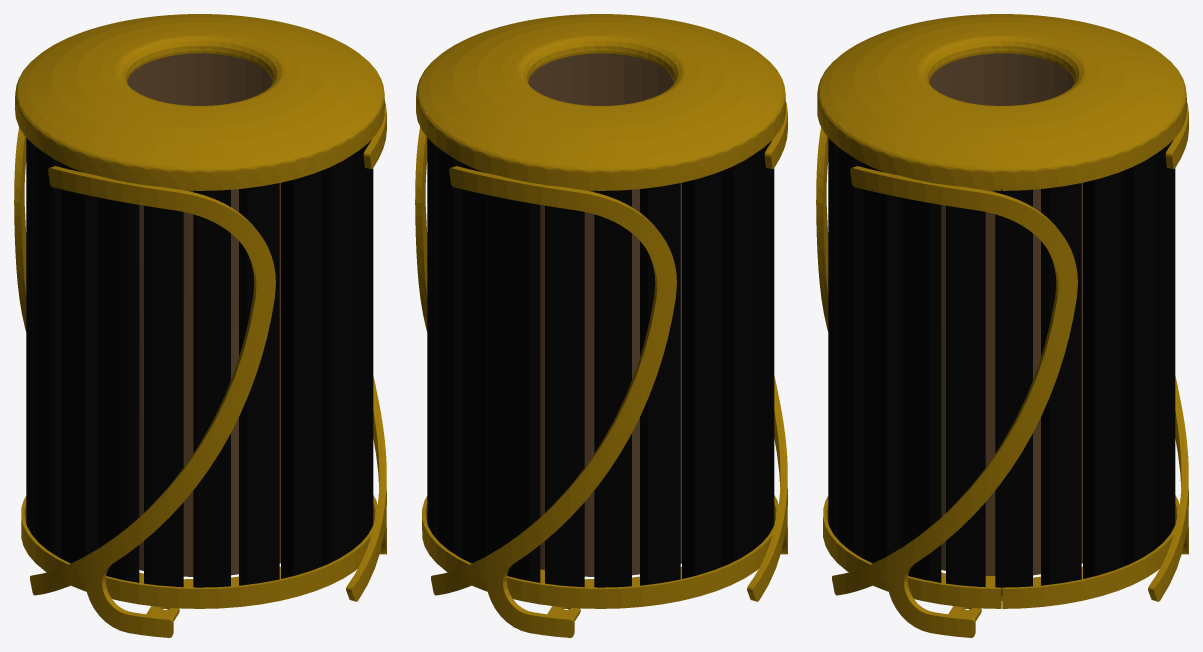
The picture shows the model from 3 angles, left to right: view 1: azimuth 30°, elevation 25°; view 2: azimuth 150°, elevation 25°; view 3: azimuth 270°, elevation 25°; orthographic projection.
Visible parts, largest first — view 1: mesh4.002_mesh4-geometry, mesh82.005_mesh82-geometry, mesh1.022_mesh1-geometry, mesh1.027_mesh1-geometry, mesh99.002_mesh99-geometry, mesh1.026_mesh1-geometry, mesh1.028_mesh1-geometry, mesh1.023_mesh1-geometry, mesh1.030_mesh1-geometry, mesh1.029_mesh1-geometry, mesh1.042_mesh1-geometry, mesh1.024_mesh1-geometry (+5 smaller); view 2: mesh4.002_mesh4-geometry, mesh82.004_mesh82-geometry, mesh1.041_mesh1-geometry, mesh1.037_mesh1-geometry, mesh99.002_mesh99-geometry, mesh1.036_mesh1-geometry, mesh1.038_mesh1-geometry, mesh1.042_mesh1-geometry, mesh1.040_mesh1-geometry, mesh1.039_mesh1-geometry, mesh1.035_mesh1-geometry, mesh1.026_mesh1-geometry (+5 smaller); view 3: mesh4.002_mesh4-geometry, mesh82.006_mesh82-geometry, mesh1.034_mesh1-geometry, mesh1.025_mesh1-geometry, mesh99.002_mesh99-geometry, mesh1.024_mesh1-geometry, mesh1.031_mesh1-geometry, mesh1.035_mesh1-geometry, mesh1.032_mesh1-geometry, mesh1.033_mesh1-geometry, mesh1.023_mesh1-geometry, mesh1.036_mesh1-geometry (+5 smaller).
Part boxes in pixels (x1,y1,x2,y2): mesh4.002_mesh4-geometry: (15, 14, 384, 188); mesh82.005_mesh82-geometry: (30, 166, 275, 637); mesh1.022_mesh1-geometry: (281, 171, 321, 578); mesh1.027_mesh1-geometry: (98, 197, 139, 582); mesh99.002_mesh99-geometry: (127, 53, 280, 576); mesh1.026_mesh1-geometry: (61, 163, 98, 563); mesh1.028_mesh1-geometry: (144, 205, 183, 587); mesh1.023_mesh1-geometry: (321, 155, 352, 566); mesh1.030_mesh1-geometry: (239, 183, 279, 585); mesh1.029_mesh1-geometry: (193, 189, 230, 587); mesh1.042_mesh1-geometry: (36, 147, 61, 558); mesh1.024_mesh1-geometry: (352, 141, 370, 549); mesh4.002_mesh4-geometry: (416, 14, 785, 188); mesh82.004_mesh82-geometry: (431, 166, 676, 637); mesh1.041_mesh1-geometry: (682, 171, 722, 578); mesh1.037_mesh1-geometry: (499, 197, 540, 582); mesh99.002_mesh99-geometry: (528, 53, 681, 576); mesh1.036_mesh1-geometry: (462, 163, 499, 563); mesh1.038_mesh1-geometry: (545, 205, 584, 587); mesh1.042_mesh1-geometry: (722, 155, 753, 566); mesh1.040_mesh1-geometry: (640, 183, 680, 585); mesh1.039_mesh1-geometry: (594, 189, 631, 587); mesh1.035_mesh1-geometry: (437, 147, 462, 558); mesh1.026_mesh1-geometry: (753, 141, 771, 549); mesh4.002_mesh4-geometry: (817, 14, 1186, 188); mesh82.006_mesh82-geometry: (832, 166, 1077, 637); mesh1.034_mesh1-geometry: (1083, 171, 1123, 578); mesh1.025_mesh1-geometry: (900, 197, 941, 582); mesh99.002_mesh99-geometry: (929, 53, 1082, 576); mesh1.024_mesh1-geometry: (863, 163, 900, 563); mesh1.031_mesh1-geometry: (946, 205, 985, 587); mesh1.035_mesh1-geometry: (1123, 155, 1154, 566); mesh1.032_mesh1-geometry: (995, 189, 1032, 596); mesh1.033_mesh1-geometry: (1041, 183, 1081, 585); mesh1.023_mesh1-geometry: (838, 147, 863, 558); mesh1.036_mesh1-geometry: (1154, 141, 1172, 549).
Size of the model in its own units: 0.4951 by 0.7149 by 0.4937.
